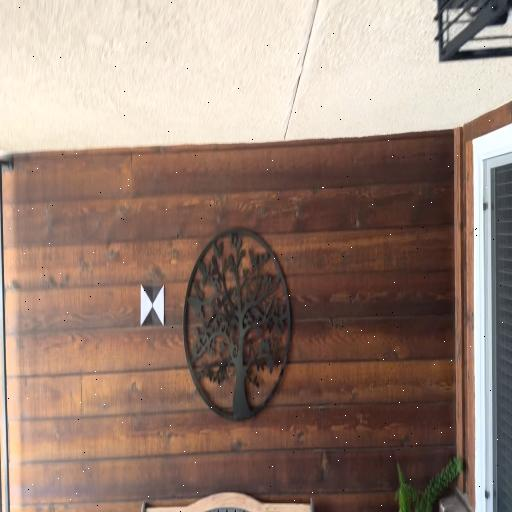target: (141, 286, 164, 324)
